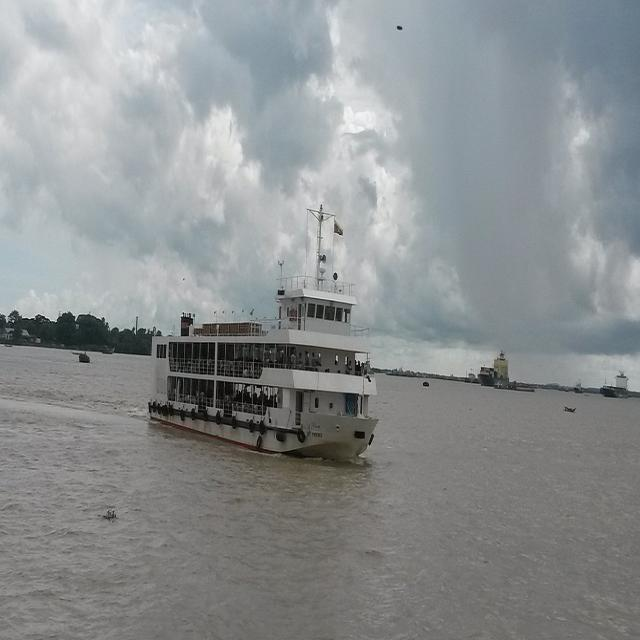passenger ship: (136, 229, 392, 437)
